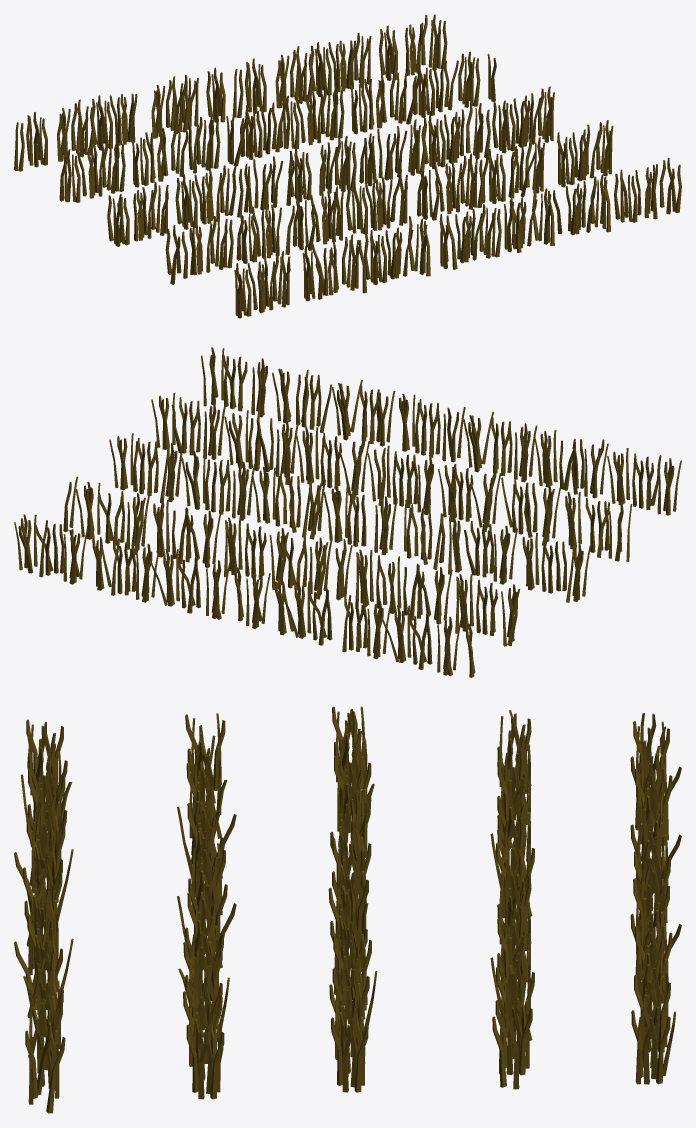
Rendered from Farm_FirstAge_Level3_Wheat.obj.
3 renders of one model, top to bottom at view 1: azimuth 30°, elevation 25°; view 2: azimuth 150°, elevation 25°; view 3: azimuth 270°, elevation 25°, orthographic. The views are drawn at different scales.
Visible parts, largest first — view 1: Farm_FirstAge_Level3_Wheat_Cube.282; view 2: Farm_FirstAge_Level3_Wheat_Cube.282; view 3: Farm_FirstAge_Level3_Wheat_Cube.282.
Boxes of the visible parts, x1,y1,x2,y2 form: Farm_FirstAge_Level3_Wheat_Cube.282: [14, 14, 681, 318]; Farm_FirstAge_Level3_Wheat_Cube.282: [14, 347, 681, 677]; Farm_FirstAge_Level3_Wheat_Cube.282: [14, 706, 681, 1113].
Bounding box in the file's own units: 1.72 × 0.1883 × 1.45.
